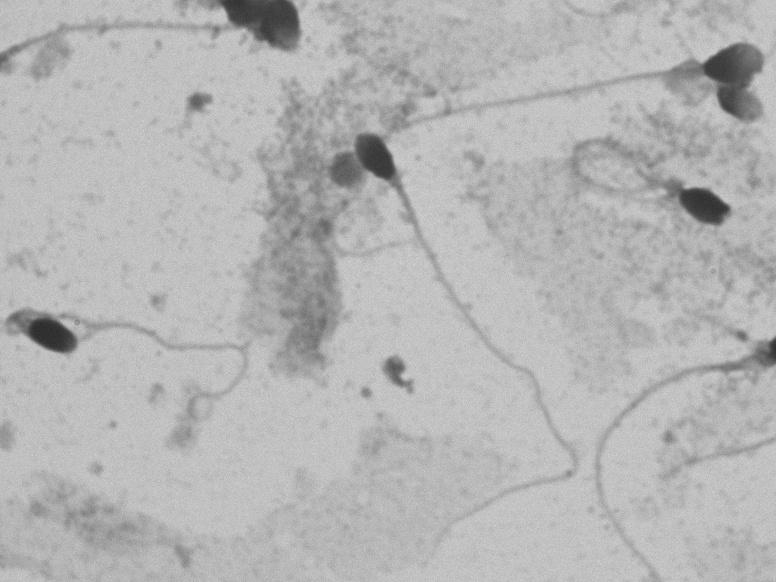Abnormal: (7, 260, 274, 422), (514, 22, 768, 152), (553, 133, 747, 258)
Normal: (337, 115, 594, 574)
